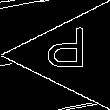P_S: (52, 30, 94, 80)
